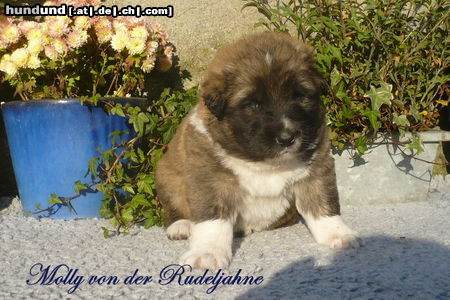cau_ovcharka: (153, 31, 362, 271)
